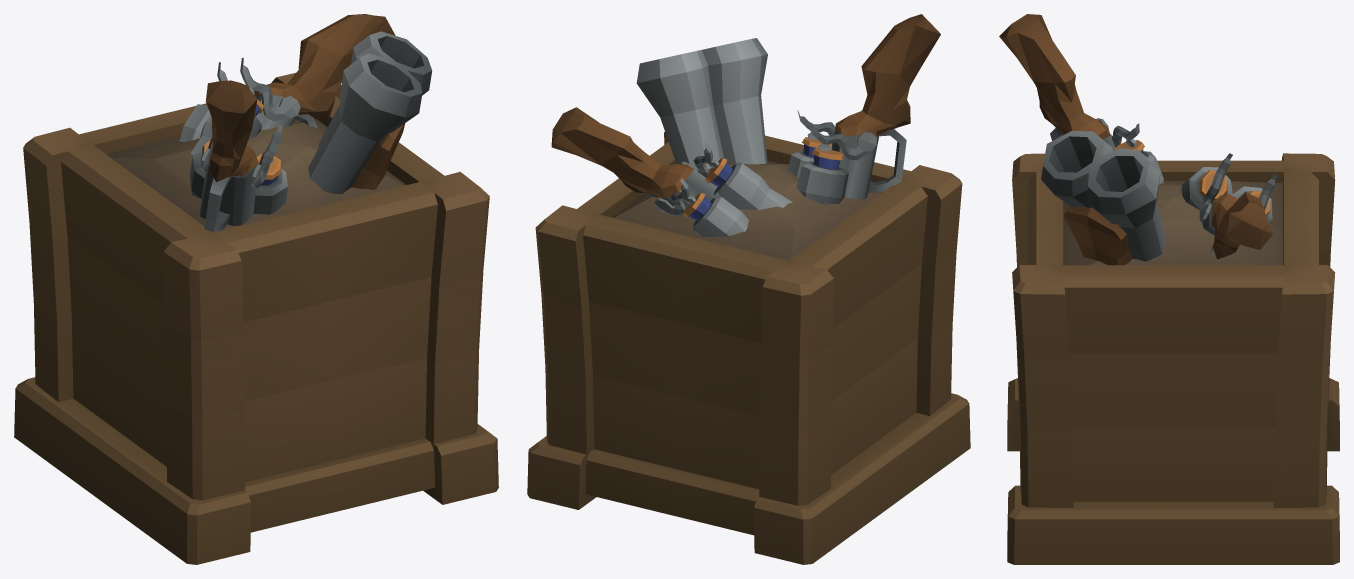
File: SM_EN_Crate_2.fbx
3 renders of one model, left to right at view 1: azimuth 30°, elevation 25°; view 2: azimuth 150°, elevation 25°; view 3: azimuth 270°, elevation 25°, orthographic. The views are drawn at different scales.
Visible parts, largest first — view 1: SM_EN_Crate_2; view 2: SM_EN_Crate_2; view 3: SM_EN_Crate_2.
Part boxes in pixels (x1=…): SM_EN_Crate_2: x1=14, y1=14, x2=498, y2=564; SM_EN_Crate_2: x1=527, y1=14, x2=970, y2=564; SM_EN_Crate_2: x1=999, y1=14, x2=1339, y2=564.
Bounding box in the file's own units: 96.67 × 95.07 × 132.
